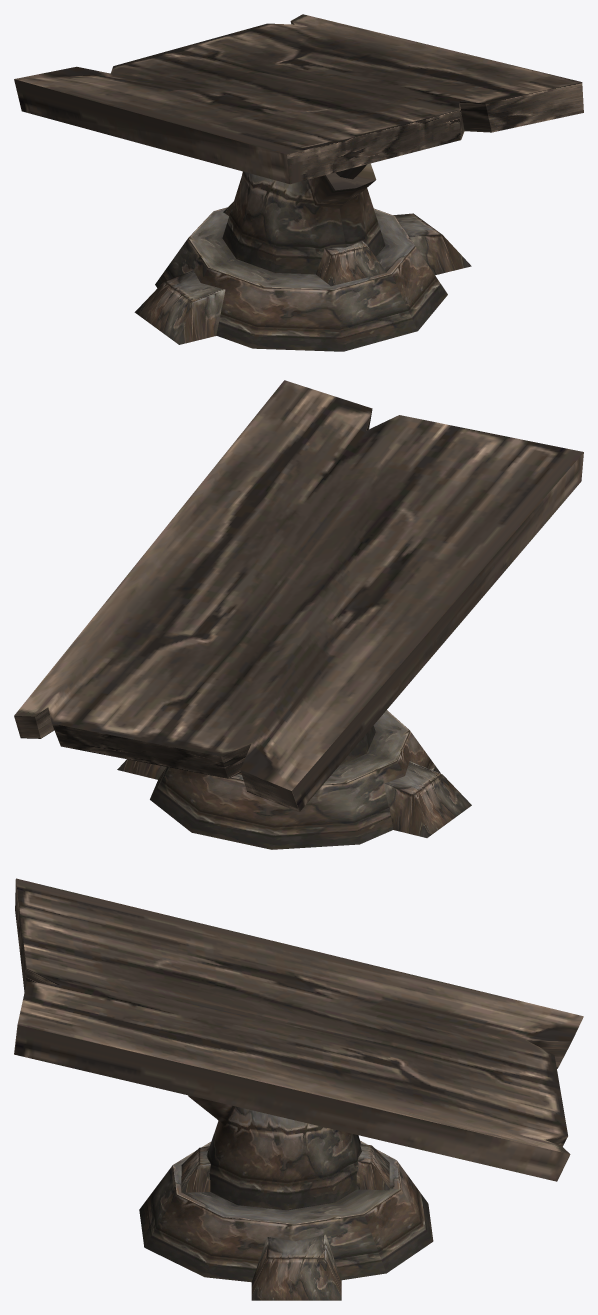
Rendered from darkironoperationtableempty.obj.
3 renders of one model, top to bottom at view 1: azimuth 30°, elevation 25°; view 2: azimuth 150°, elevation 25°; view 3: azimuth 270°, elevation 25°, orthographic.
Size of the model in its own units: 2.67 by 2.29 by 4.33.
Materials: 1 (1 with a texture image).
